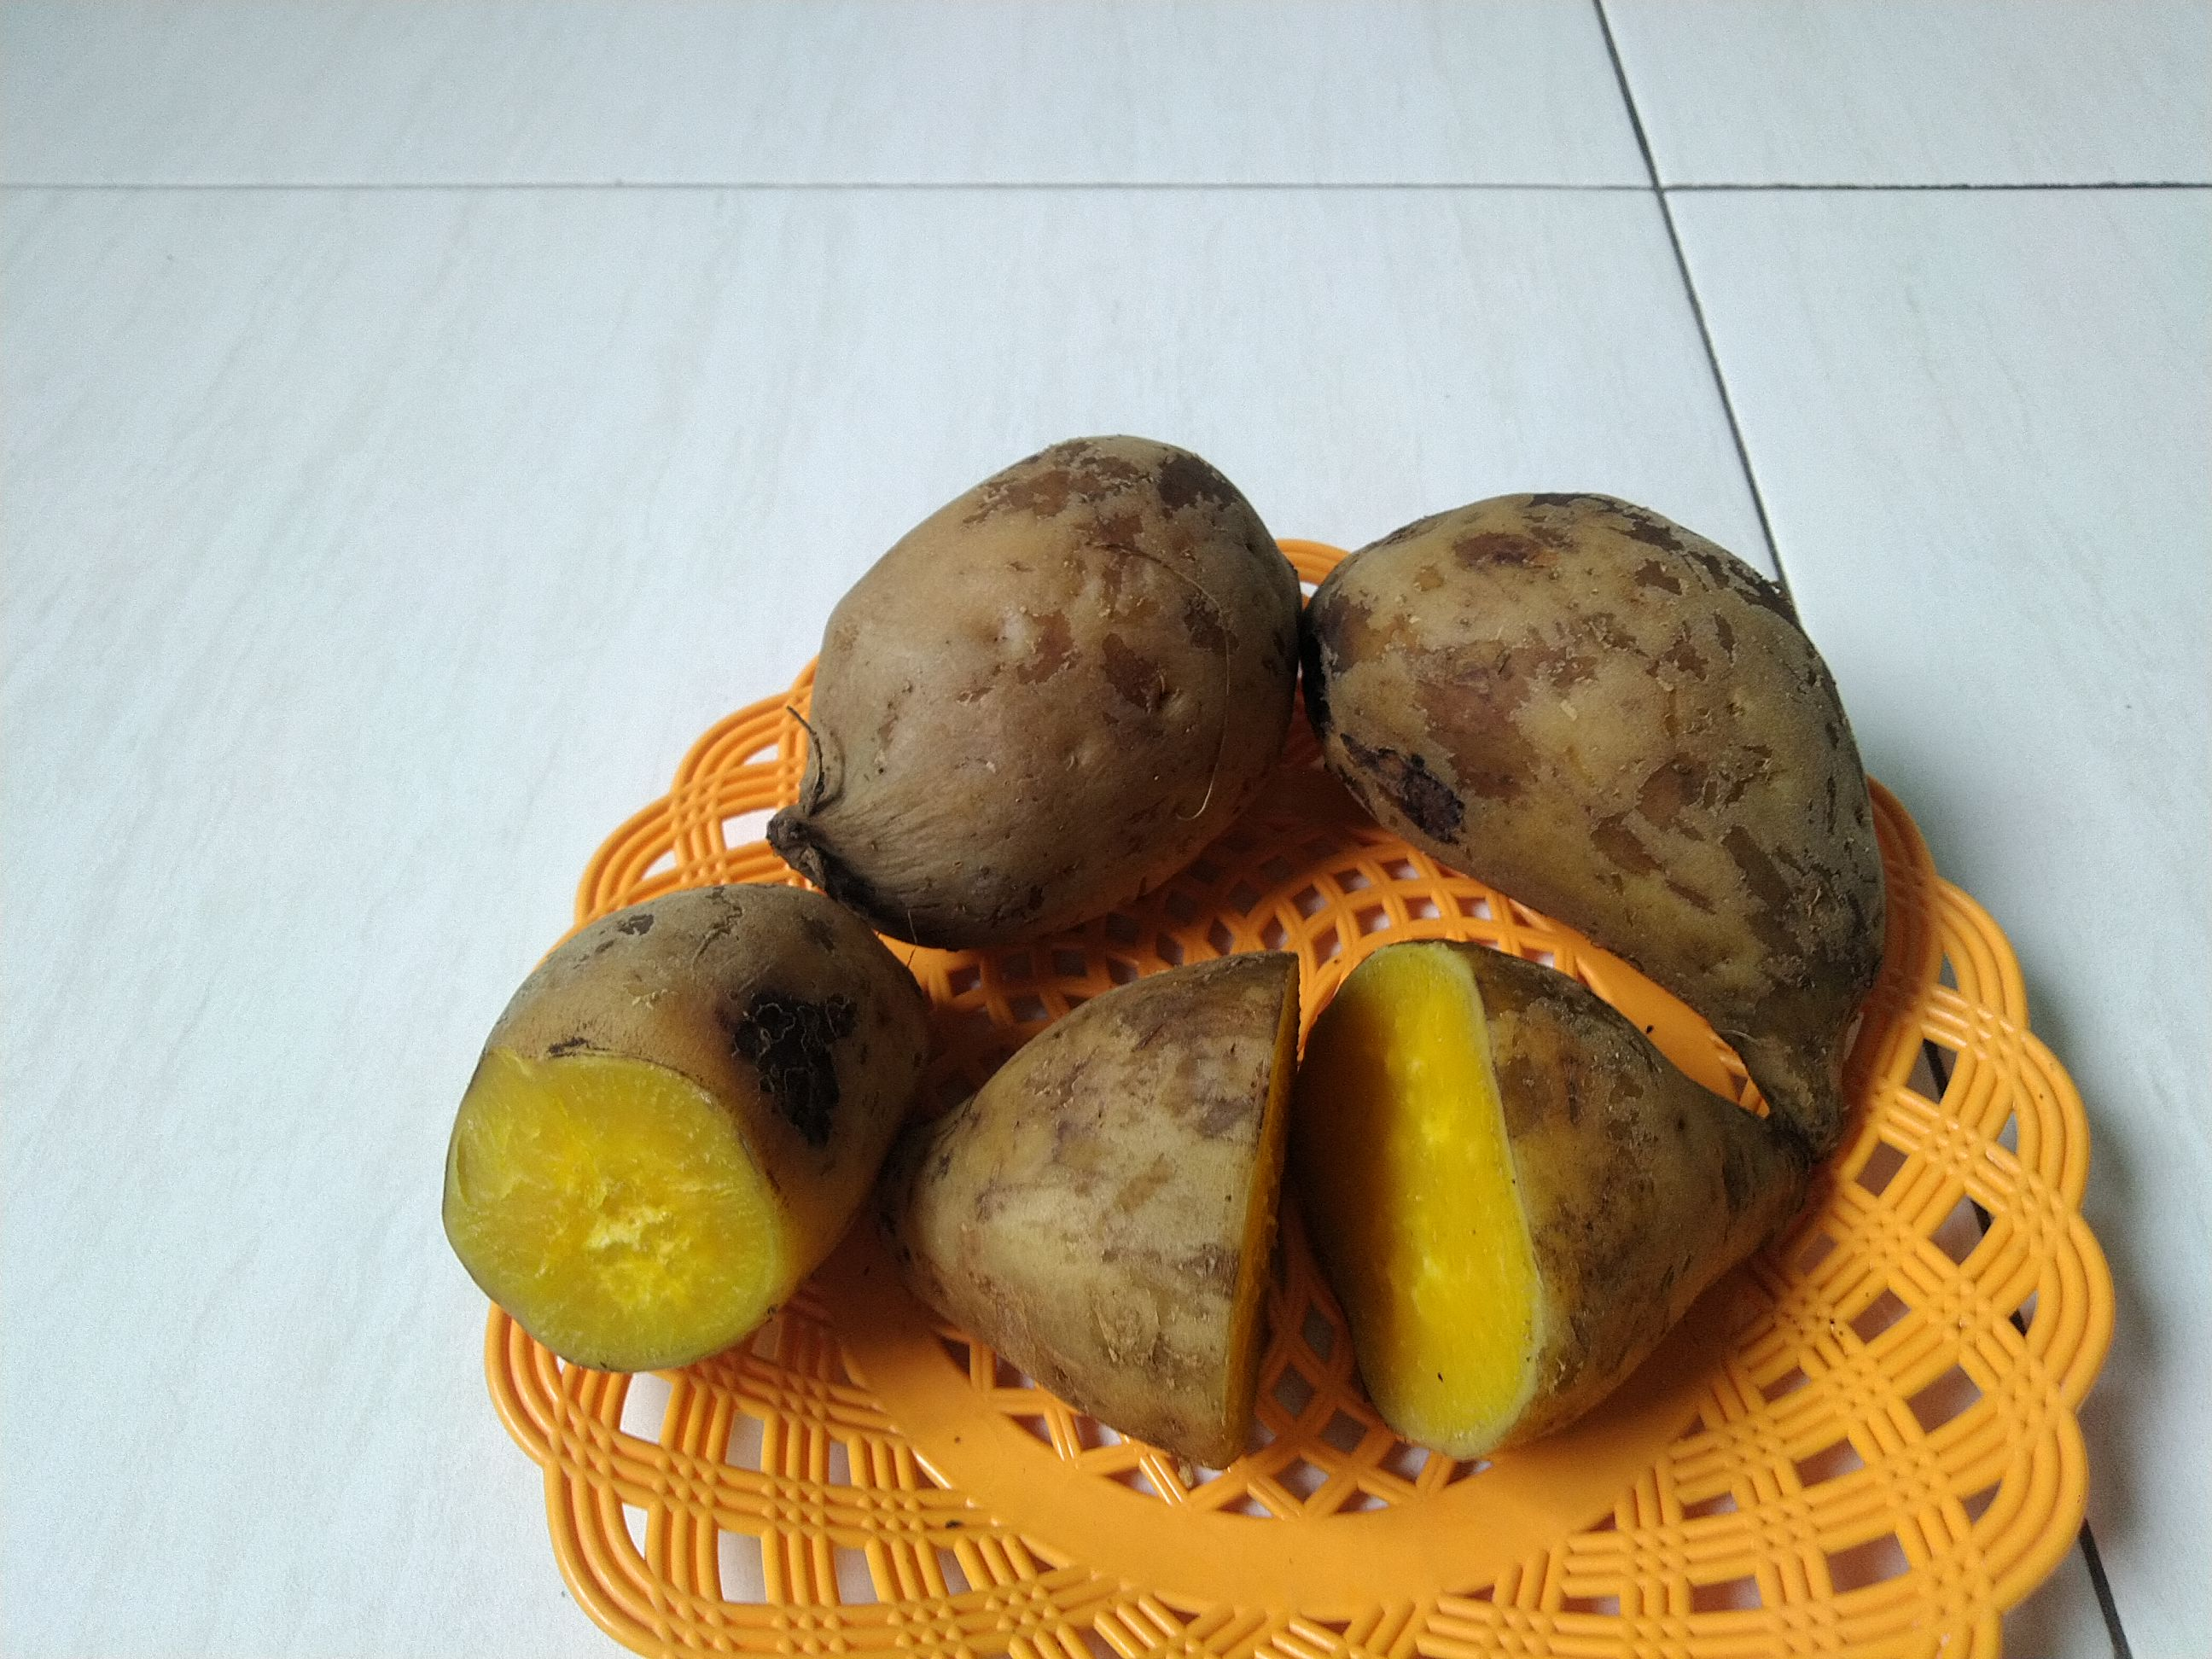ubi kuning: (904, 938, 1811, 1469), (1303, 465, 1956, 1171), (770, 406, 1306, 938), (423, 861, 956, 1392), (1305, 929, 1815, 1469), (894, 925, 1308, 1455)
